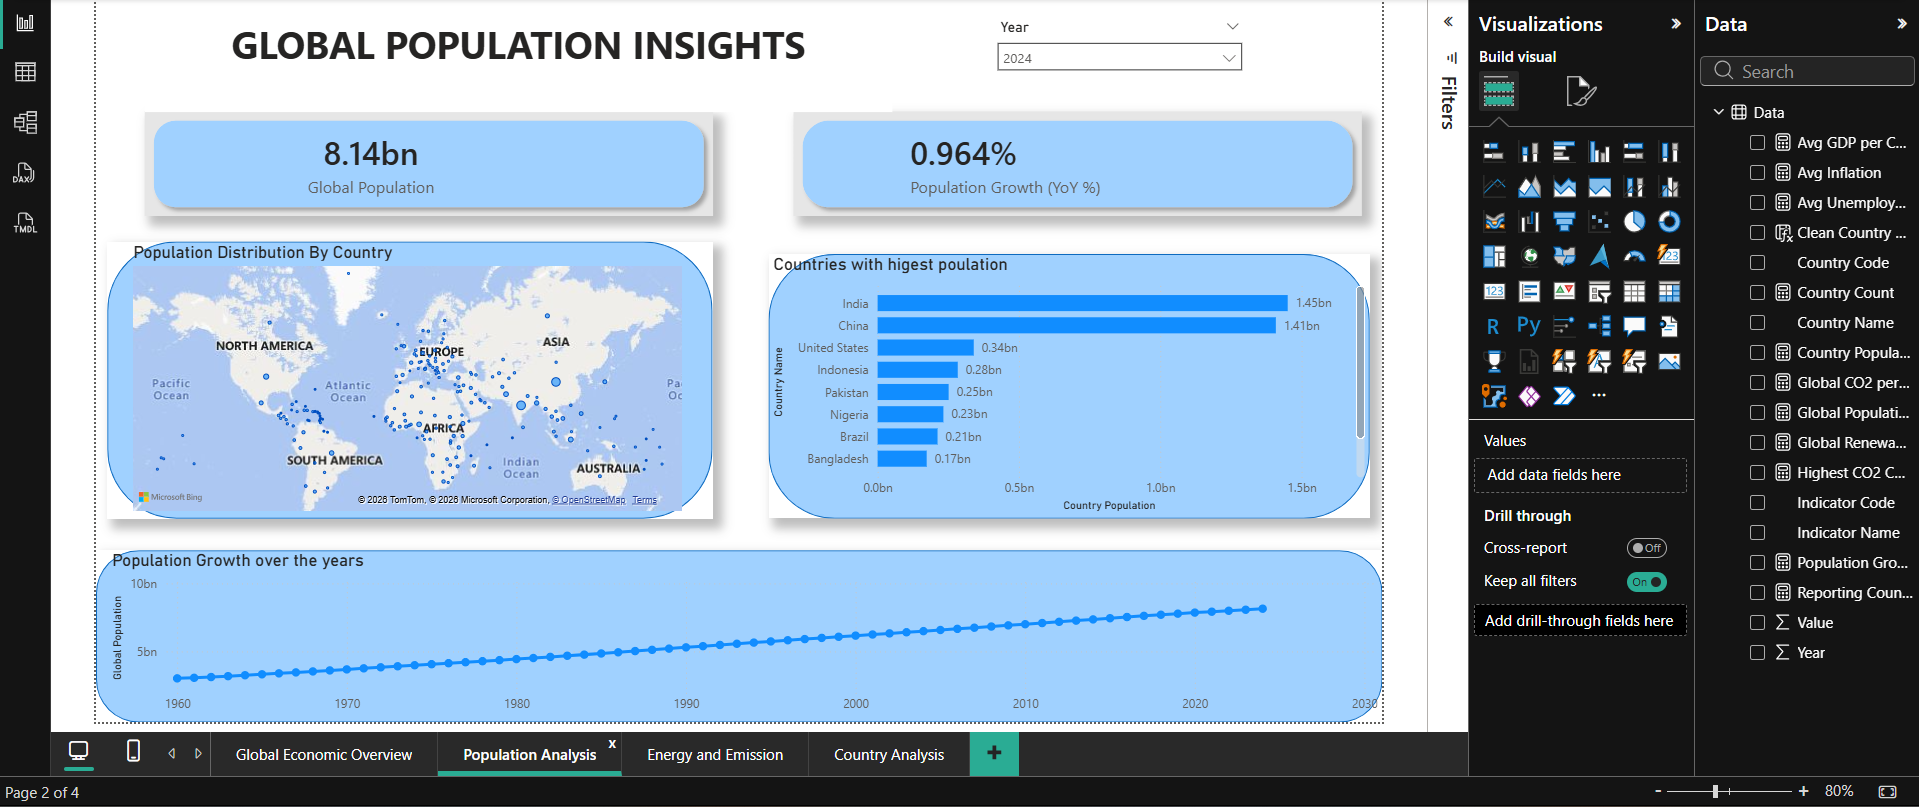

The page's visual inventory and layout, read from the dashboard file:
{"tool":"powerbi","page":{"name":"Population Analysis","canvas":[1280,720],"ordinal":1},"visuals":[{"type":"group","id":"g1","title":"Group 1","box":[0,112,1280,608.3],"z":0},{"type":"shape","box":[48,112,565.4,104.3],"z":0,"group":"g1"},{"type":"shape","box":[694.3,112,565.4,104.3],"z":1000,"group":"g1"},{"type":"cardVisual","fields":{"Data":["Data.Population Growth (YoY %)"]},"box":[780.8,112.5,499.5,104.3],"z":1000},{"type":"slicer","fields":{"Values":["Data.Year"]},"box":[886.5,15.1,263.5,72.7],"z":2000},{"type":"shape","box":[11,241,602.4,275.8],"z":2000,"group":"g1"},{"type":"cardVisual","fields":{"Data":["Data.Total Population"]},"box":[11,112.5,525.6,104.3],"z":3000},{"type":"shape","box":[669.6,253.3,598.3,263.5],"z":3000,"group":"g1"},{"type":"map","title":"Population Distribution By Country","fields":{"Category":["Data.Country Name"],"Size":["Sum(Data.Value)"]},"box":[32.3,241.3,556,273.7],"z":4000},{"type":"shape","box":[0,548.4,1280.3,171.5],"z":4000,"group":"g1"},{"type":"clusteredBarChart","title":"Countries with higest poulation","fields":{"Y":["Data.Country Population"],"Category":["Data.Country Name"]},"box":[669.3,253.8,598.3,261.2],"z":5000},{"type":"lineChart","title":"Population Growth over the years","fields":{"Category":["Data.Year"],"Y":["Data.Global Population"]},"box":[11,548.9,1269.3,171.5],"z":6000},{"type":"textbox","box":[48,15.1,743.7,97.4],"z":7000}]}

Visuals, with their boxes on the page's 1280x720 design canvas (x1, y1, x2, y2). These are canvas units, not pixel positions in the 1919x807 screenshot, which may show the page scaled, cropped or inside an application window:
"Group 1" group: pyautogui.locateOnScreen(0, 112, 1280, 720)
shape: pyautogui.locateOnScreen(48, 112, 613, 216)
shape: pyautogui.locateOnScreen(694, 112, 1260, 216)
cardVisual - Data.Population Growth (YoY %): pyautogui.locateOnScreen(781, 112, 1280, 217)
slicer - Data.Year: pyautogui.locateOnScreen(886, 15, 1150, 88)
shape: pyautogui.locateOnScreen(11, 241, 613, 517)
cardVisual - Data.Total Population: pyautogui.locateOnScreen(11, 112, 537, 217)
shape: pyautogui.locateOnScreen(670, 253, 1268, 517)
"Population Distribution By Country" map: pyautogui.locateOnScreen(32, 241, 588, 515)
shape: pyautogui.locateOnScreen(0, 548, 1280, 720)
"Countries with higest poulation" clusteredBarChart: pyautogui.locateOnScreen(669, 254, 1268, 515)
"Population Growth over the years" lineChart: pyautogui.locateOnScreen(11, 549, 1280, 720)
textbox: pyautogui.locateOnScreen(48, 15, 792, 112)
